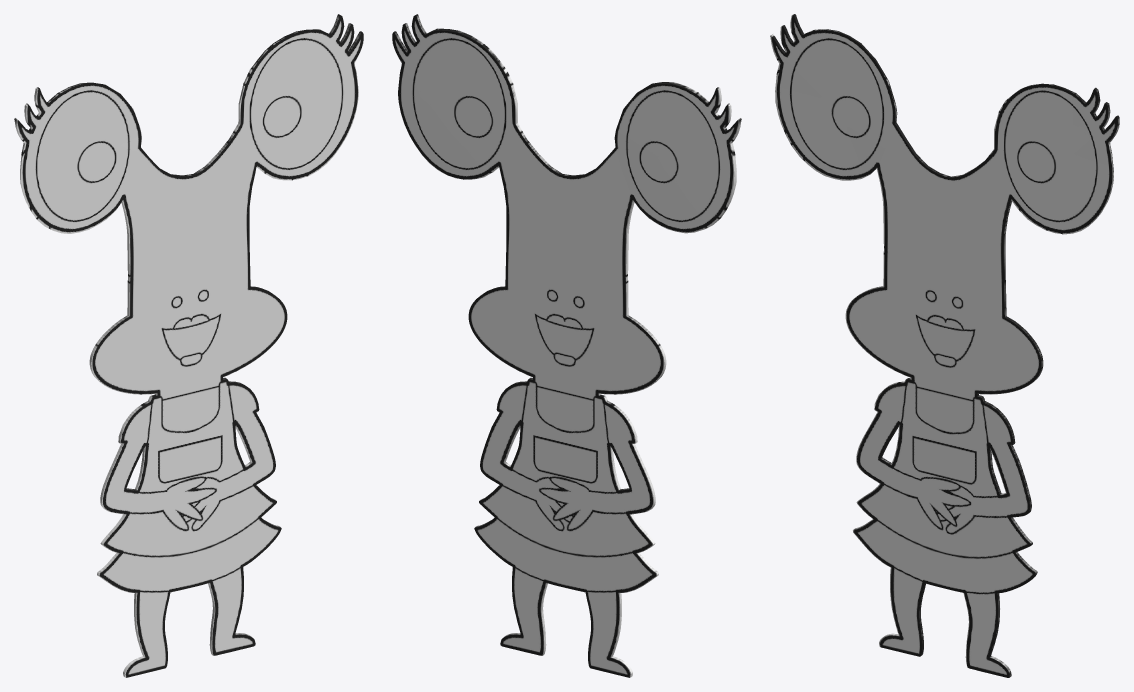
File: 38_meri.fbx
3 renders of one model, left to right at view 1: azimuth 30°, elevation 25°; view 2: azimuth 150°, elevation 25°; view 3: azimuth 330°, elevation 25°, orthographic.
Parts seen in each view (by area): view 1: pCylinder3; view 2: pCylinder3; view 3: pCylinder3.
Boxes of the visible parts, left/top/right/bottom form: pCylinder3: left=14, top=14, right=363, bottom=677; pCylinder3: left=392, top=14, right=741, bottom=677; pCylinder3: left=770, top=14, right=1119, bottom=677.
Size of the model in its own units: 22.34 by 37.48 by 0.2139.
Materials: 1 (1 with a texture image).
